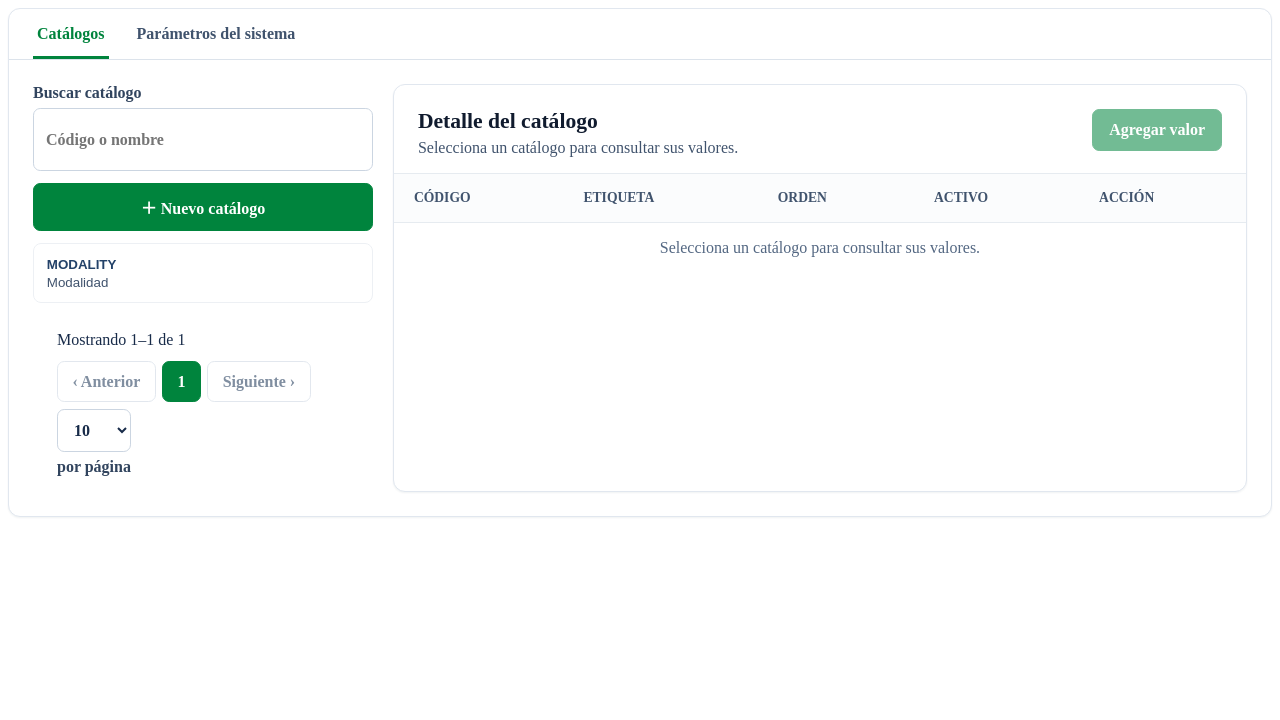
Test: Parametrización › mantiene abierto el modal y muestra conflicto de código duplicado
The width and height of the screenshot is (1280, 720).
Click the button "MODALITY Modalidad" at coordinates (82, 265), box [33,243,373,303]
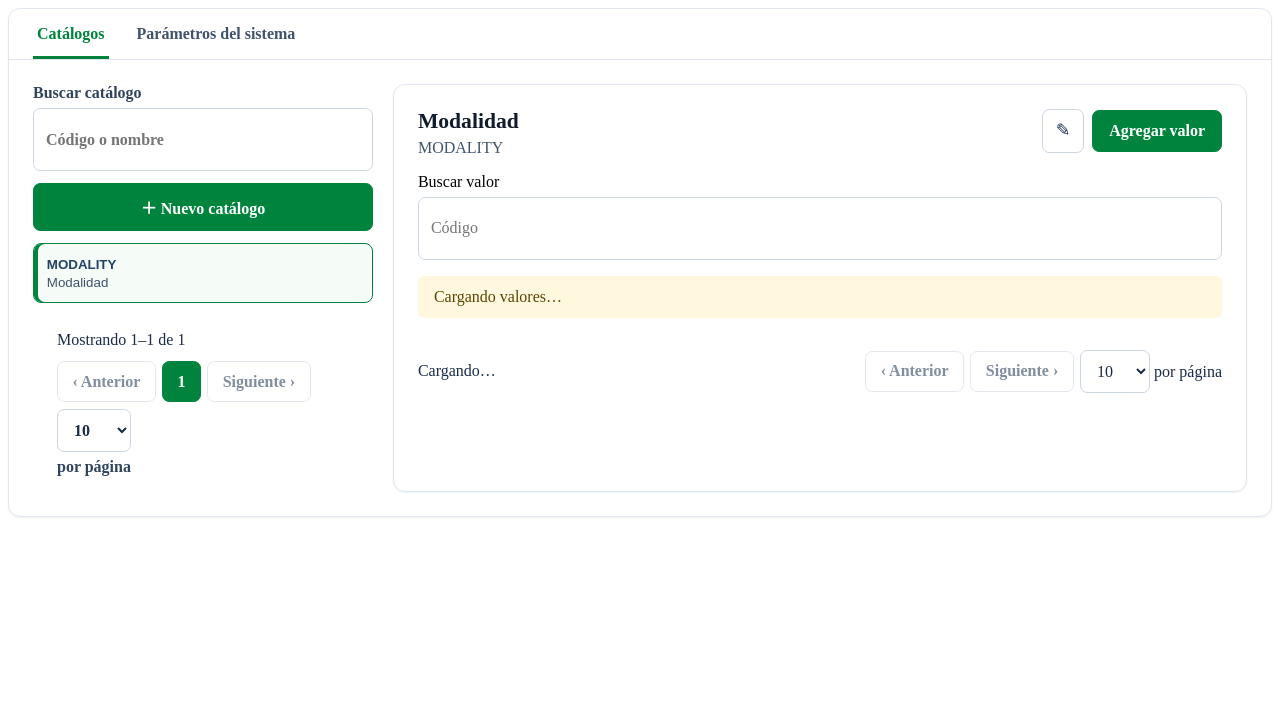
Click the button "Agregar valor" at coordinates (1157, 131), box [1092,110,1222,152]
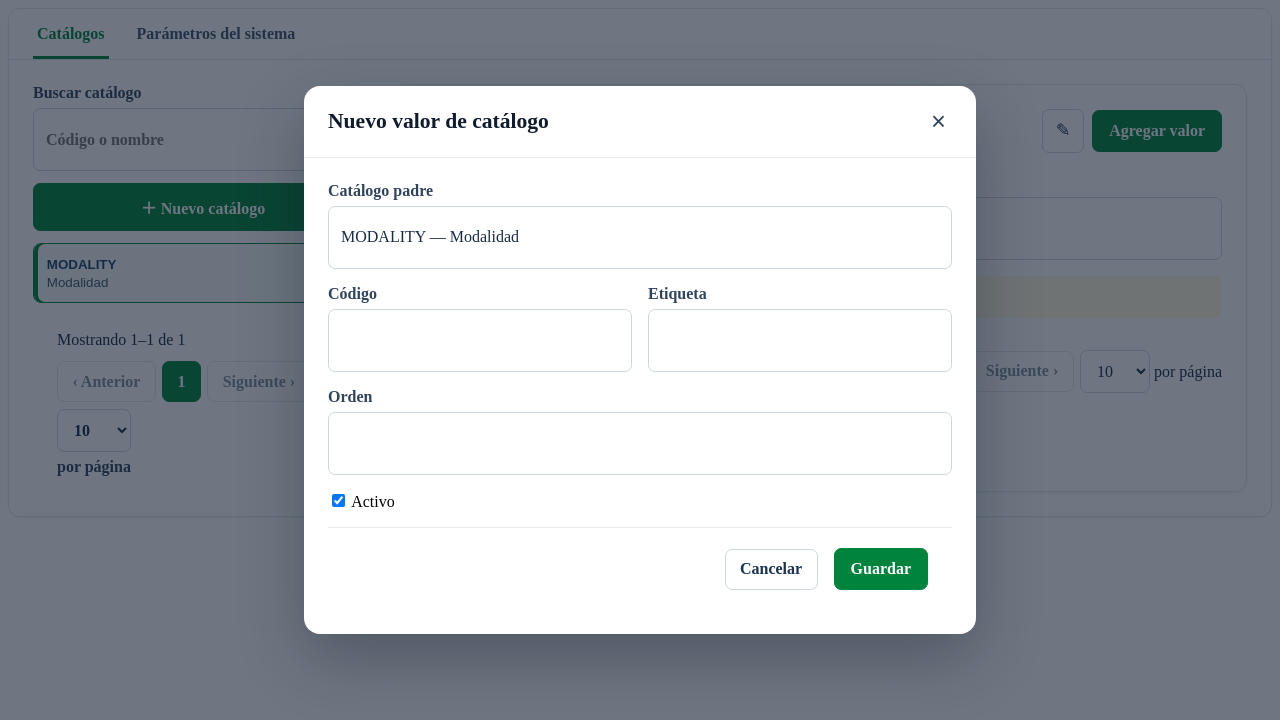
Type "PRESENTIAL" into the field labelled "Código" at coordinates (480, 340), box [328,309,632,372]
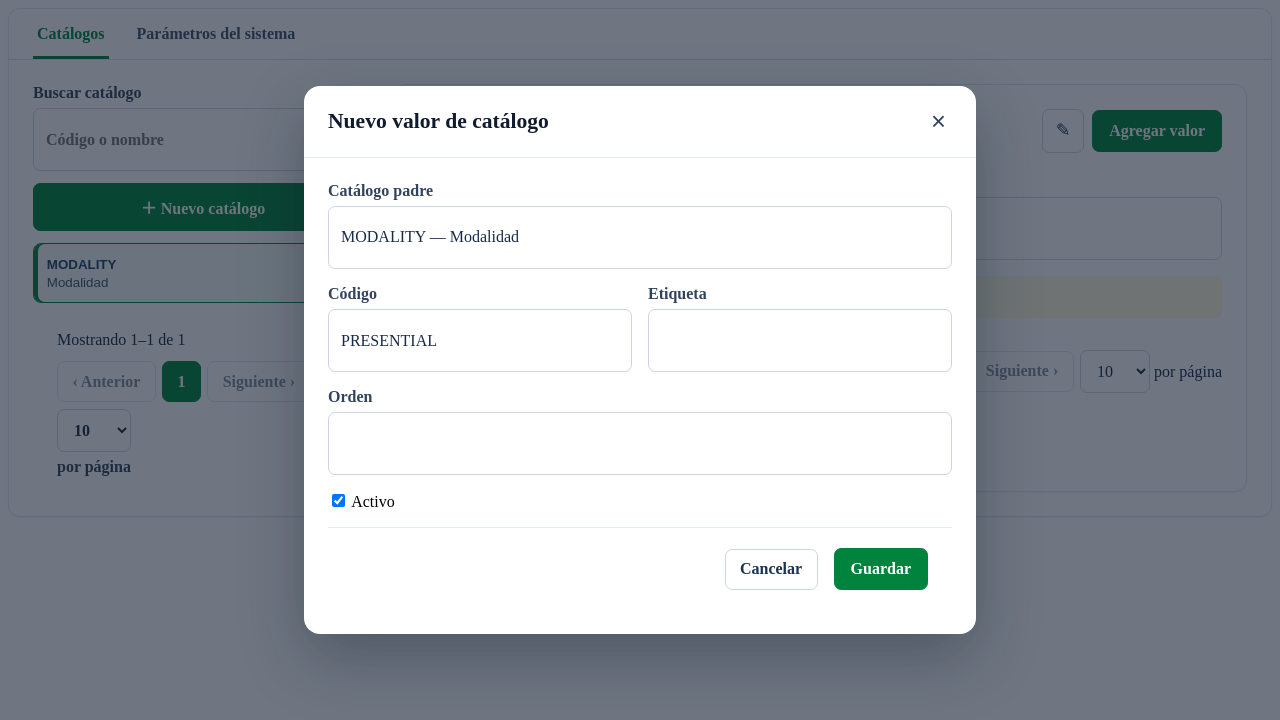
Type "Presencial" into the field labelled "Etiqueta" at coordinates (800, 340), box [648,309,952,372]
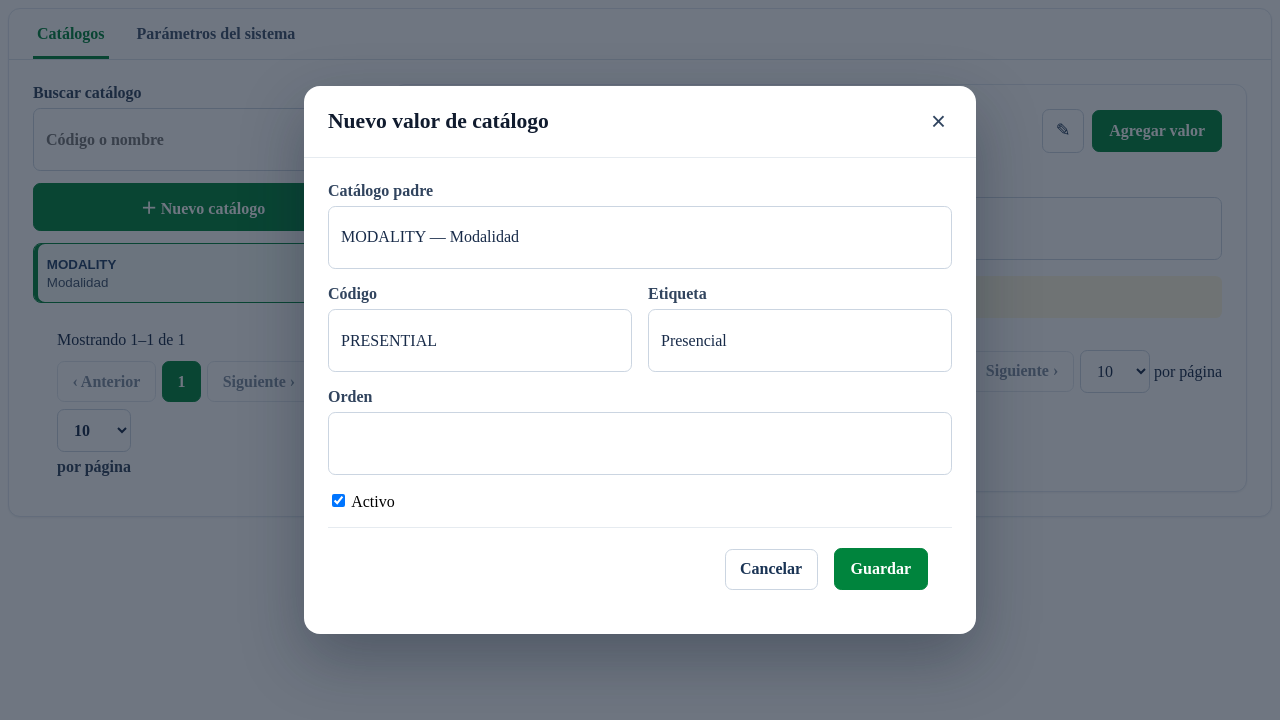
Click the button "Guardar" at coordinates (881, 569), box [834,548,928,590]
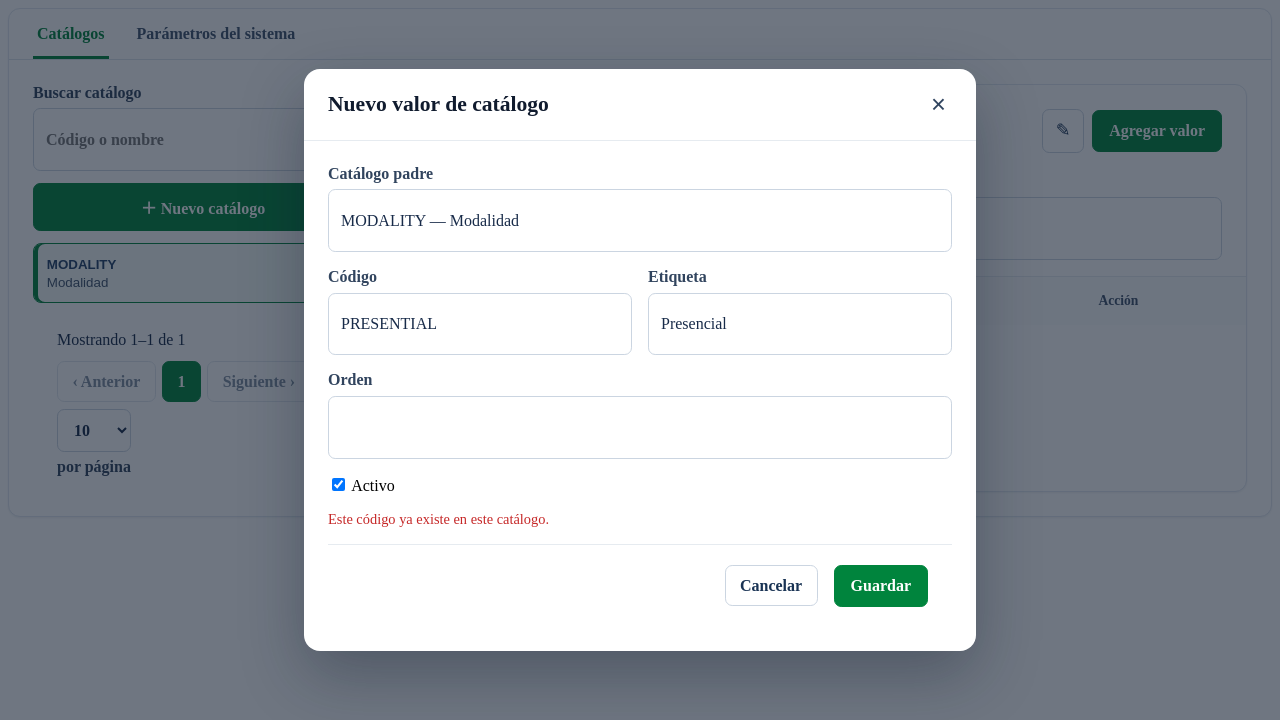
Check: the dialog is shown, box [304,69,976,651]
Check: the message reads "Este código ya existe en este catálogo.", box [328,511,549,527]
